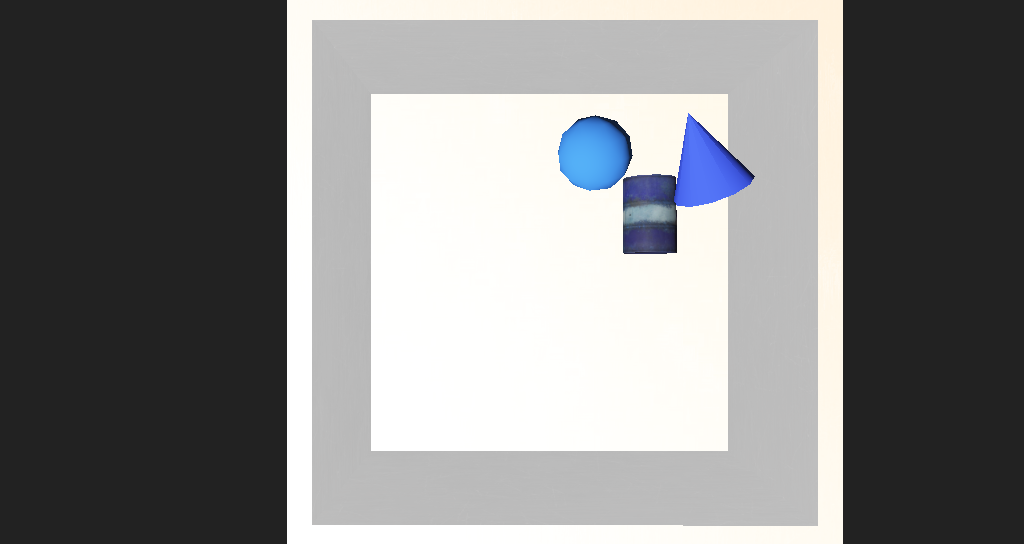cone: (569, 210, 616, 258)
cylinder: (573, 155, 694, 236)
sphere: (515, 179, 576, 222)
